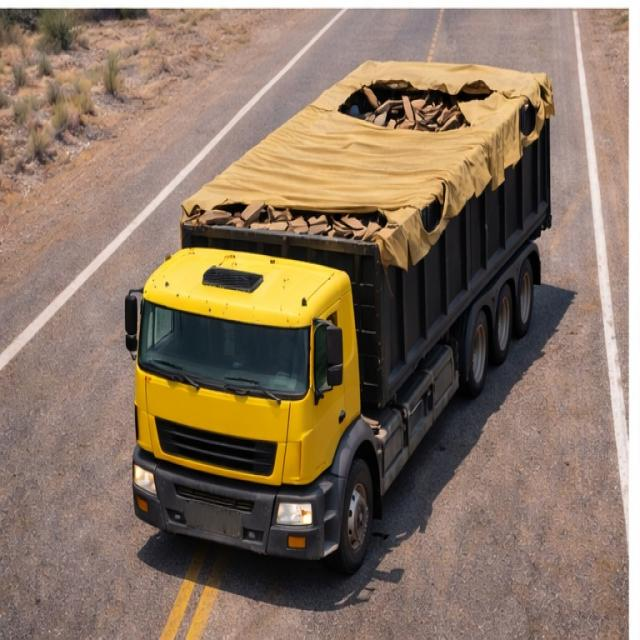Box: (180, 38, 561, 240)
Truck: (113, 9, 580, 564)
